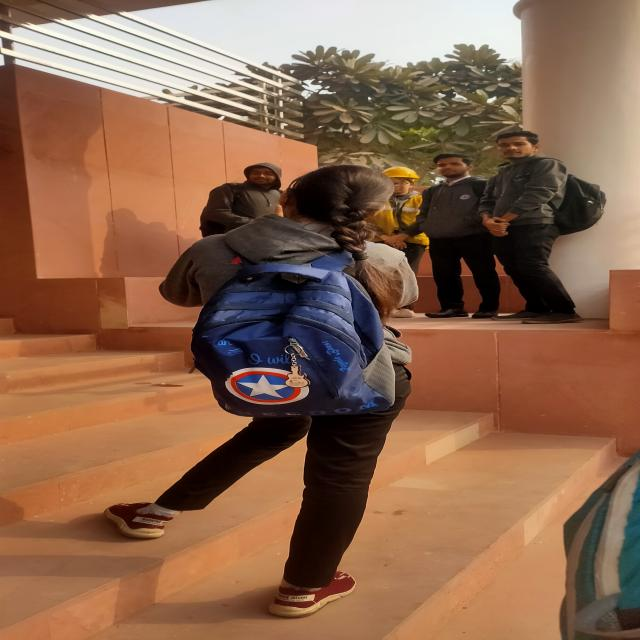unsafe: (182, 165, 408, 629), (477, 130, 591, 326), (419, 146, 504, 319), (217, 155, 279, 234)
